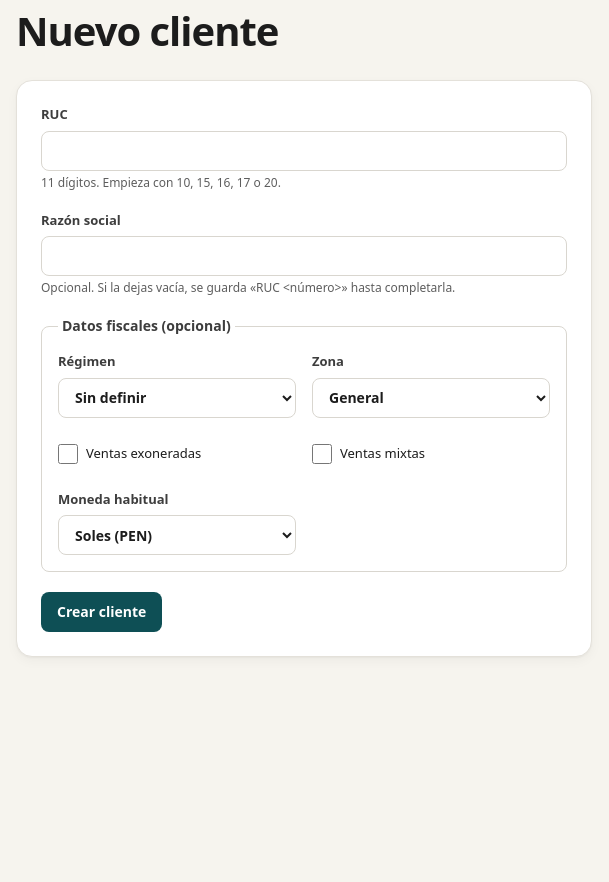
/clientes/nuevo › 409 cupo_rucs: aviso de límite y uso del plan; no navega
Type "20100000009" into the field labelled "RUC" at (304, 150), box top-left (41, 130), bottom-right (567, 170)
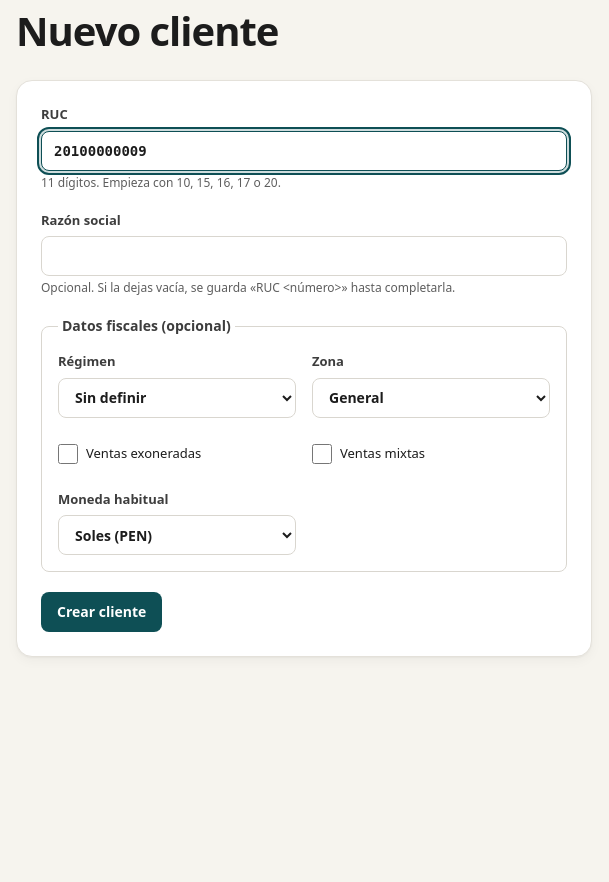
Click the button "Crear cliente" at (102, 612), box top-left (41, 592), bottom-right (162, 632)
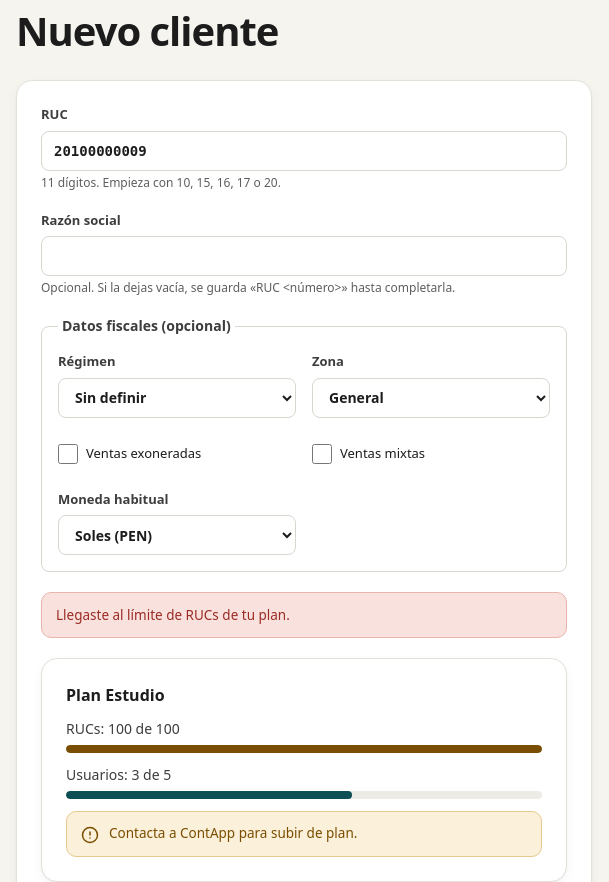
Expected: the text "Llegaste al límite de RUCs de tu plan." is shown, top-left (41, 592), bottom-right (567, 638)
Expected: the text "RUCs: 100 de 100" is shown, top-left (66, 719), bottom-right (180, 738)
Expected: the text "Contacta a ContApp para subir de plan." is shown once, top-left (109, 824), bottom-right (357, 844)
